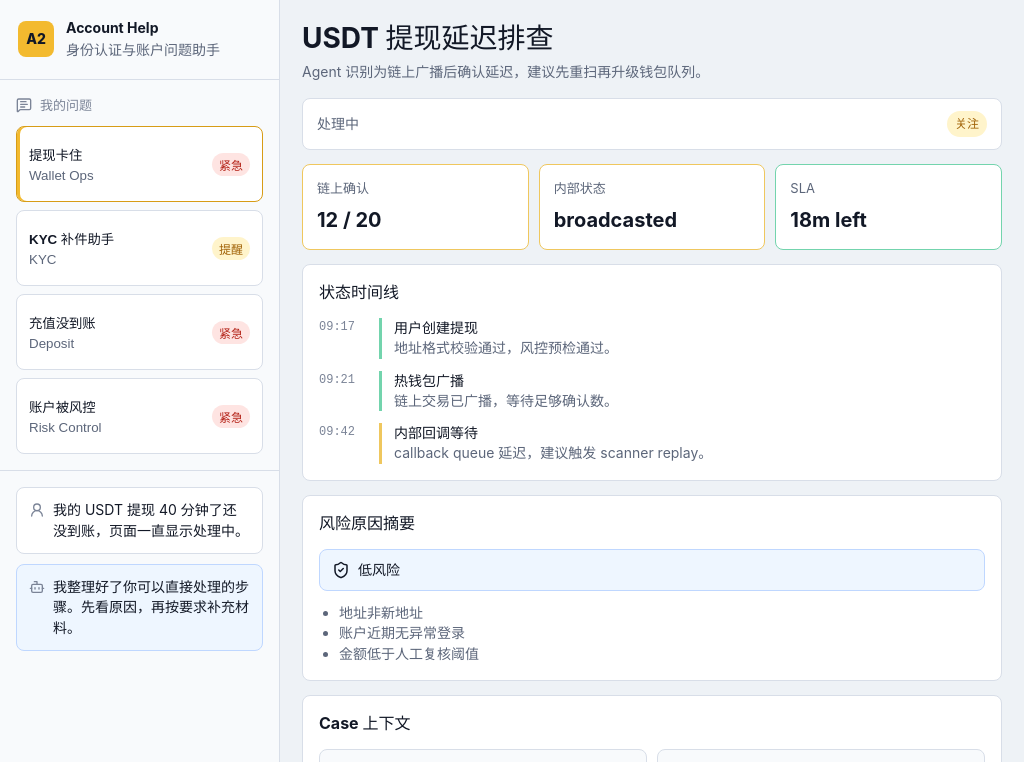
Test case: App › switches scenarios and records action audit events
Click the button "KYC 补件助手 KYC 提醒".
click(140, 248)  # box [16,210,263,286]
(page scrolled)
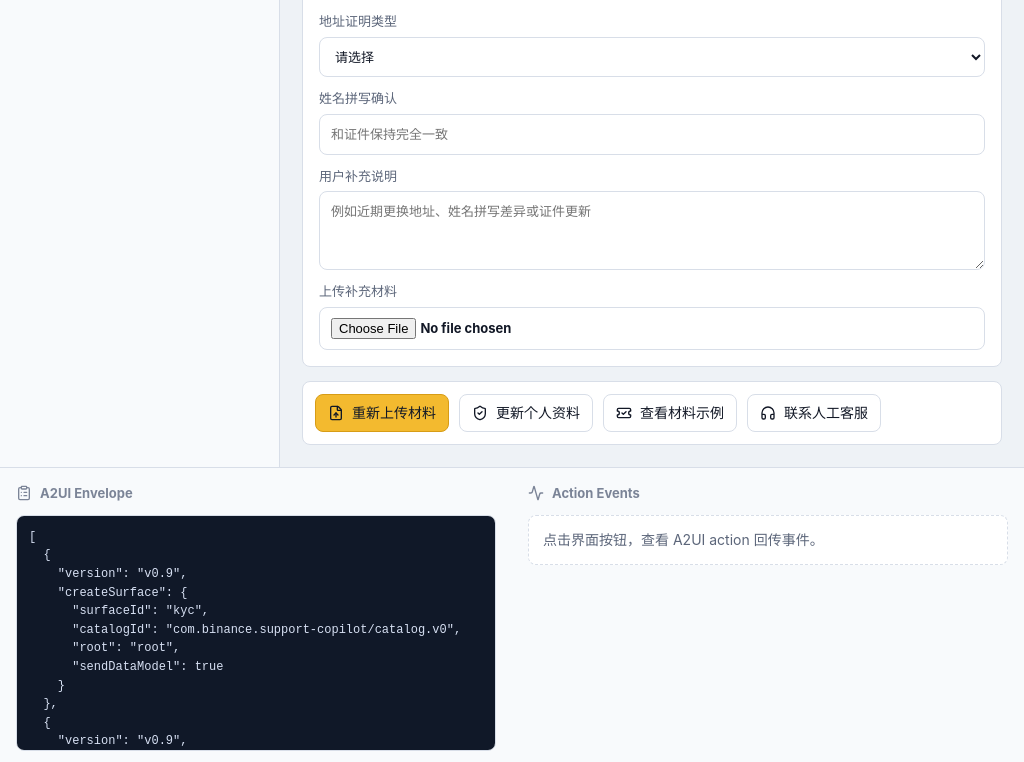
Click the button "联系人工客服".
click(814, 413)  # box [747,394,881,432]
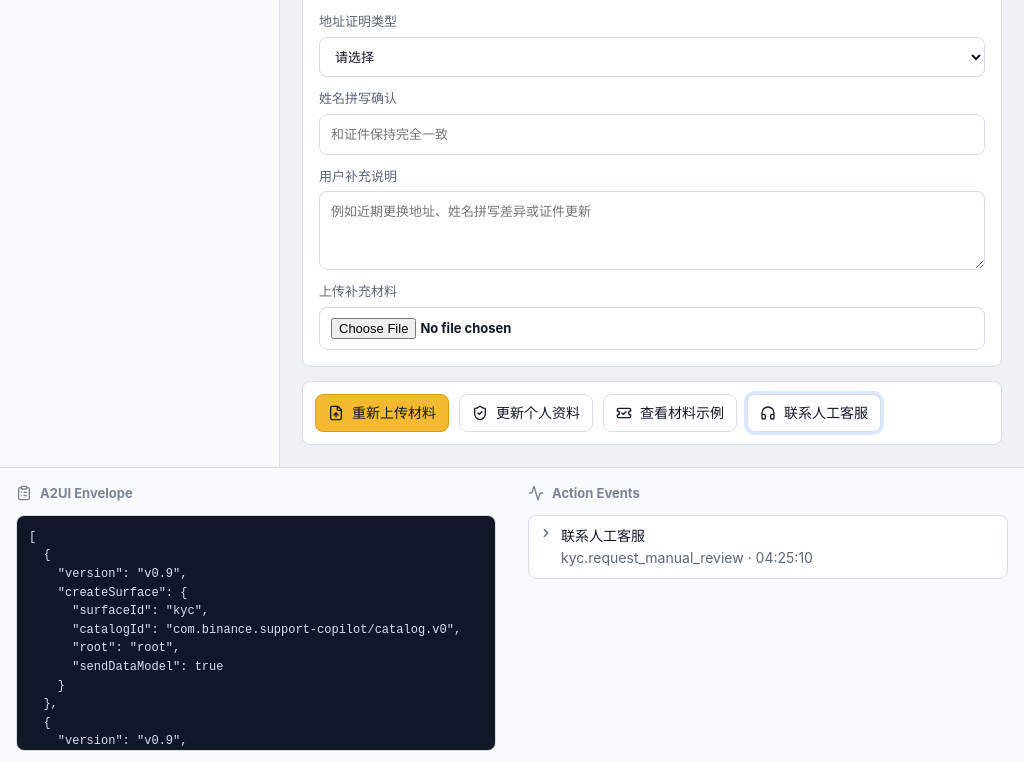
Expected: the text "kyc.request_manual_review · 04:25:10" is shown, [561,549,813,566]
